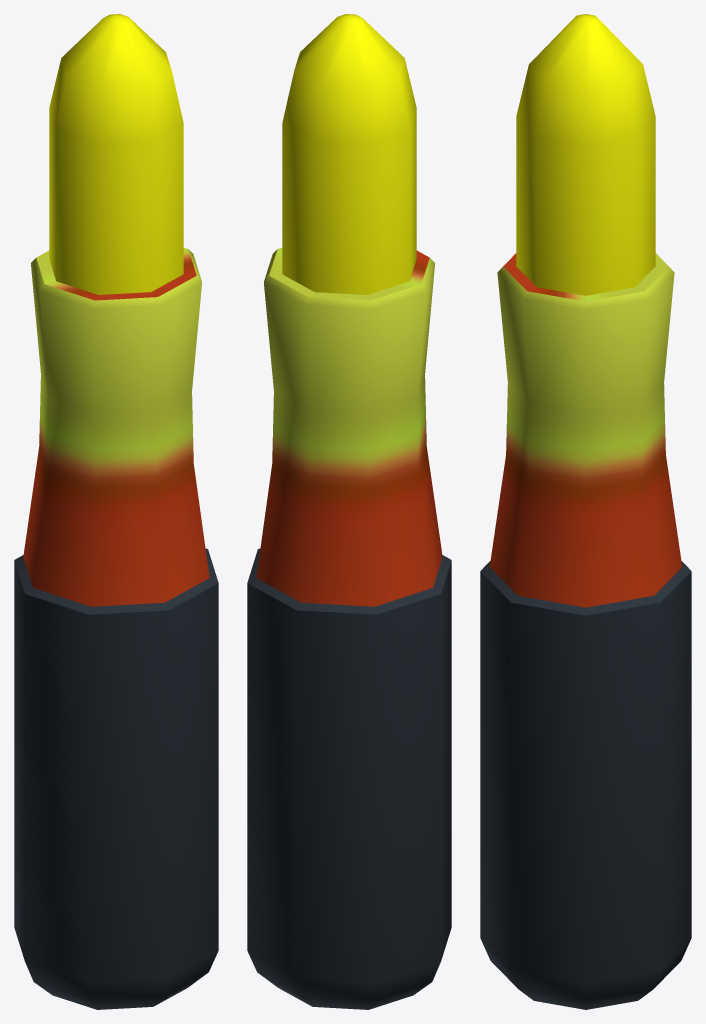
The model's file is Lipstick.fbx.
3 views of the same model, side by side, from view 1: azimuth 30°, elevation 25°; view 2: azimuth 150°, elevation 25°; view 3: azimuth 270°, elevation 25° (orthographic).
Parts seen in each view (by area): view 1: Lipstick; view 2: Lipstick; view 3: Lipstick.
Part boxes in pixels (x1,y1,x2,y2): Lipstick: (14,14,218,1009); Lipstick: (247,14,451,1009); Lipstick: (480,14,691,1009).
Size of the model in its own units: 1.3 by 6.53 by 1.3.
